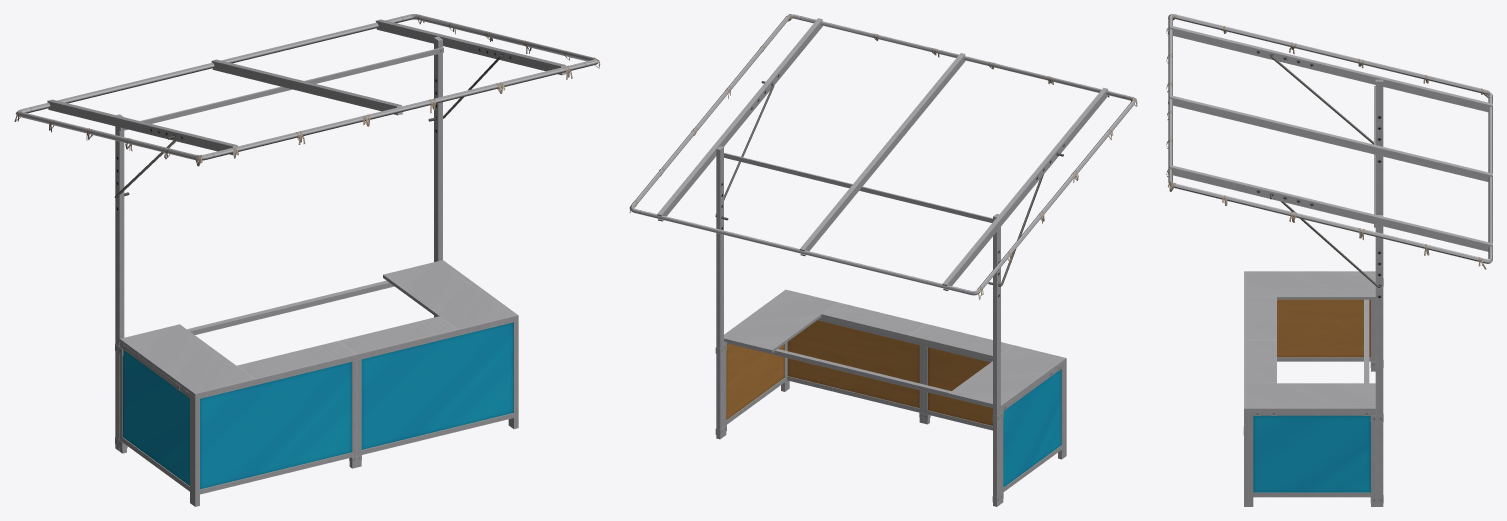
The model's file is jsf_2P_s02_c02_t03.fbx.
3 views of the same model, side by side, from view 1: azimuth 30°, elevation 25°; view 2: azimuth 150°, elevation 25°; view 3: azimuth 270°, elevation 25° (orthographic). The views are drawn at different scales.
Parts seen in each view (by area): view 1: Base_s02_c02, Pillar2_s02, Table_2P_s02_t03, Rope_2P_s02; view 2: Base_s02_c02, Pillar2_s02, Table_2P_s02_t03; view 3: Pillar2_s02, Base_s02_c02, Table_2P_s02_t03, Rope_2P_s02.
Boxes of the visible parts, box(x1,y1,x2,y2) form: Base_s02_c02: box(115, 315, 518, 506); Pillar2_s02: box(15, 14, 597, 451); Table_2P_s02_t03: box(119, 260, 517, 397); Rope_2P_s02: box(14, 15, 600, 166); Base_s02_c02: box(715, 289, 1066, 503); Pillar2_s02: box(629, 14, 1135, 506); Table_2P_s02_t03: box(724, 290, 1065, 410); Pillar2_s02: box(1168, 14, 1492, 506); Base_s02_c02: box(1243, 271, 1383, 506); Table_2P_s02_t03: box(1245, 271, 1375, 415); Rope_2P_s02: box(1166, 14, 1488, 269).
Size of the model in its own units: 264 by 244 by 211.
